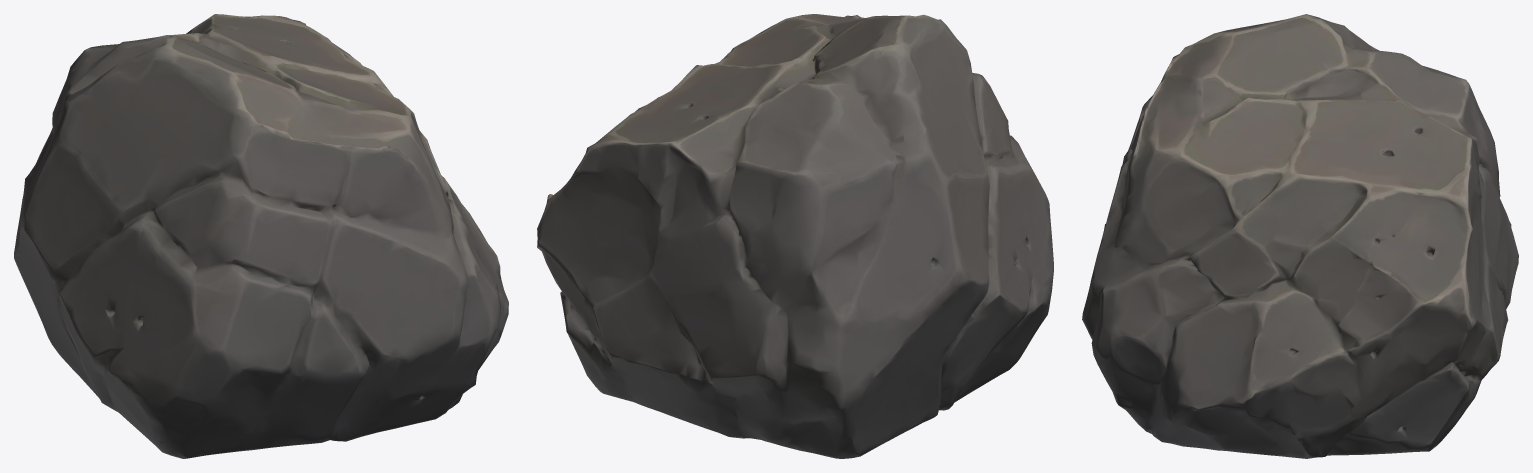
File: rock.glb
The picture shows the model from 3 angles, left to right: view 1: azimuth 30°, elevation 25°; view 2: azimuth 150°, elevation 25°; view 3: azimuth 270°, elevation 25°; orthographic projection. The views are drawn at different scales.
Visible parts, largest first — view 1: tripo_node_ee223488-f8db-44b8-8714-0817ac6d56ba; view 2: tripo_node_ee223488-f8db-44b8-8714-0817ac6d56ba; view 3: tripo_node_ee223488-f8db-44b8-8714-0817ac6d56ba.
Boxes of the visible parts, <box> form: tripo_node_ee223488-f8db-44b8-8714-0817ac6d56ba: <box>14,14,508,458</box>; tripo_node_ee223488-f8db-44b8-8714-0817ac6d56ba: <box>537,14,1053,458</box>; tripo_node_ee223488-f8db-44b8-8714-0817ac6d56ba: <box>1082,14,1518,458</box>.
Bounding box in the file's own units: 1 × 0.8424 × 0.9913.
1 material, 1 textured.
